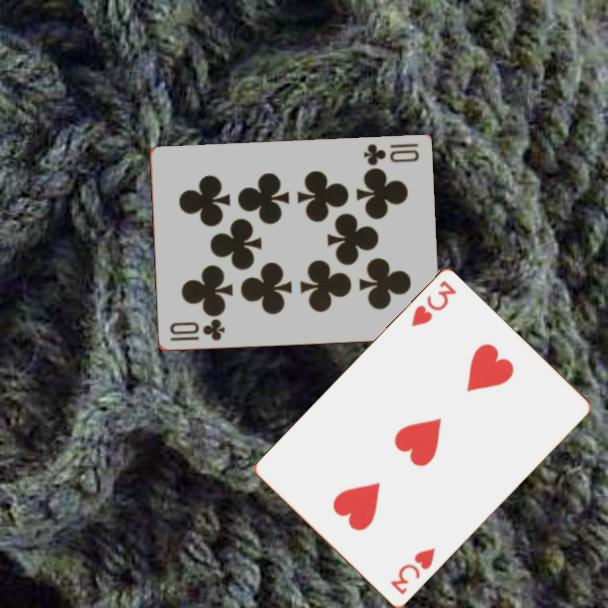c10: (360, 140, 421, 169), (166, 316, 227, 344)
h03: (407, 277, 460, 330), (387, 544, 438, 598)
